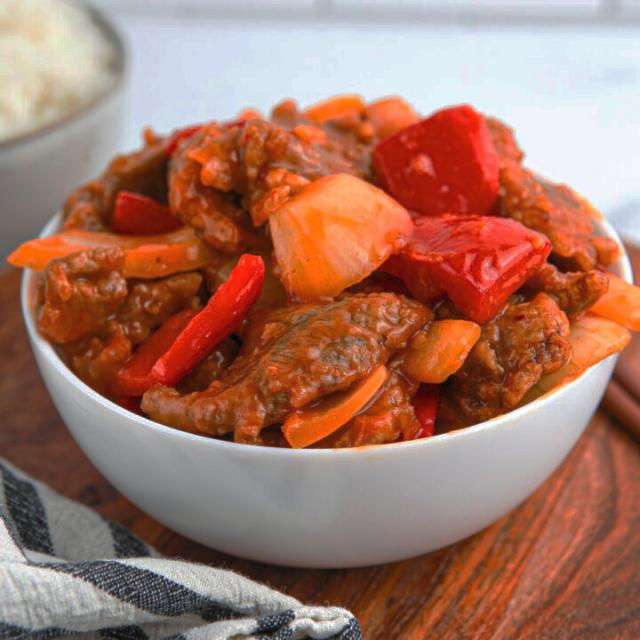Beijing Beef: (27, 98, 638, 444)
